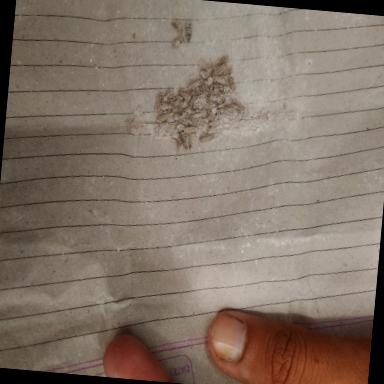pbw: (172, 129, 186, 152), (158, 111, 176, 126), (216, 105, 236, 118), (176, 87, 192, 102), (154, 92, 164, 116), (170, 19, 186, 34), (188, 90, 200, 110), (230, 100, 247, 114), (212, 63, 226, 80), (184, 22, 194, 44), (204, 104, 216, 122), (208, 118, 222, 133), (170, 97, 184, 112), (176, 99, 189, 115), (199, 132, 216, 144), (199, 80, 209, 100), (186, 79, 201, 92), (162, 88, 174, 104), (214, 76, 230, 88), (184, 134, 194, 152), (216, 101, 232, 112), (172, 36, 186, 48), (220, 66, 233, 78), (228, 76, 237, 92), (183, 126, 199, 135), (188, 112, 203, 121), (198, 61, 210, 71), (217, 56, 229, 66), (212, 91, 226, 98), (208, 82, 214, 98), (213, 84, 225, 92)
